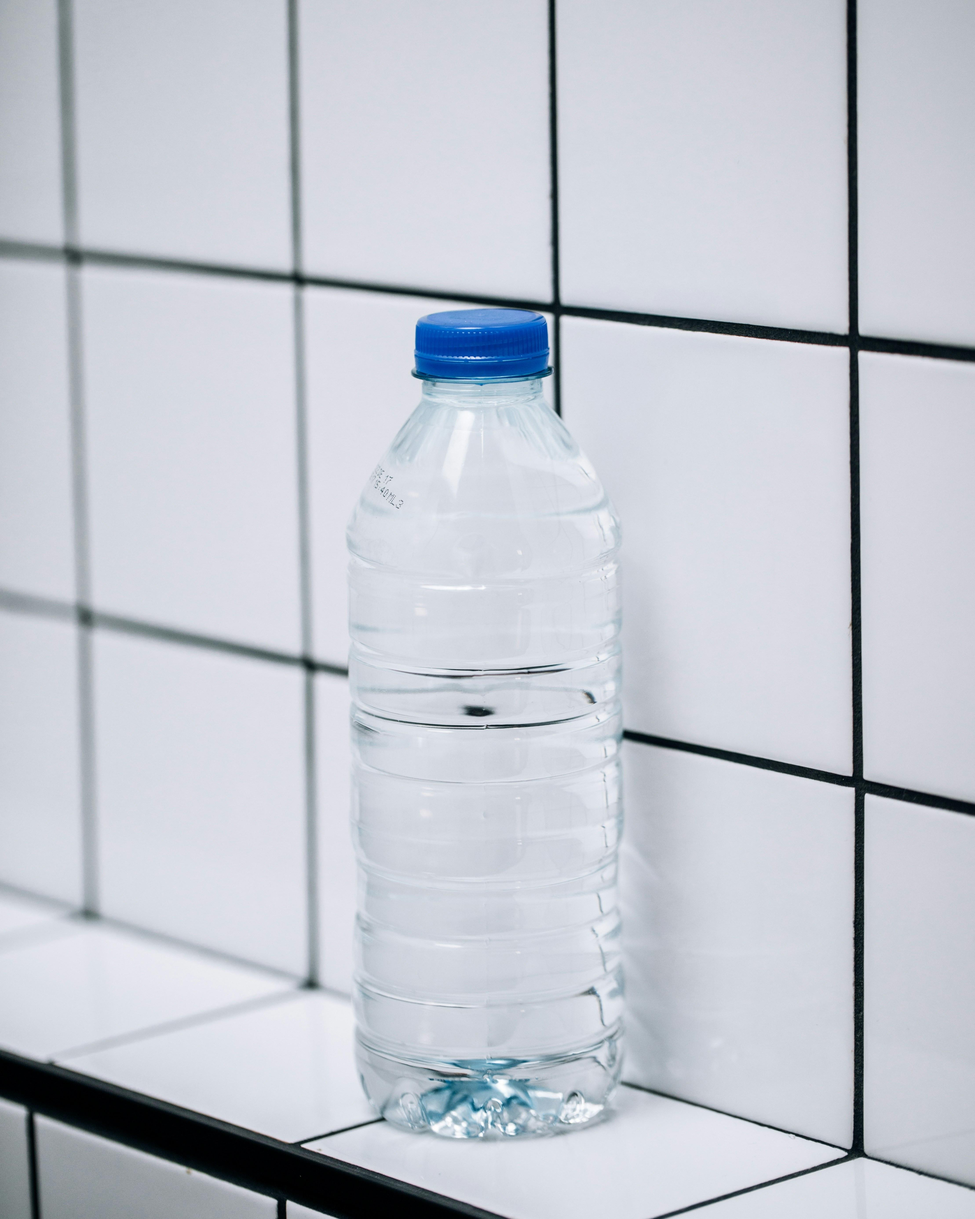Bottle-Detection: (248, 224, 712, 1179)
